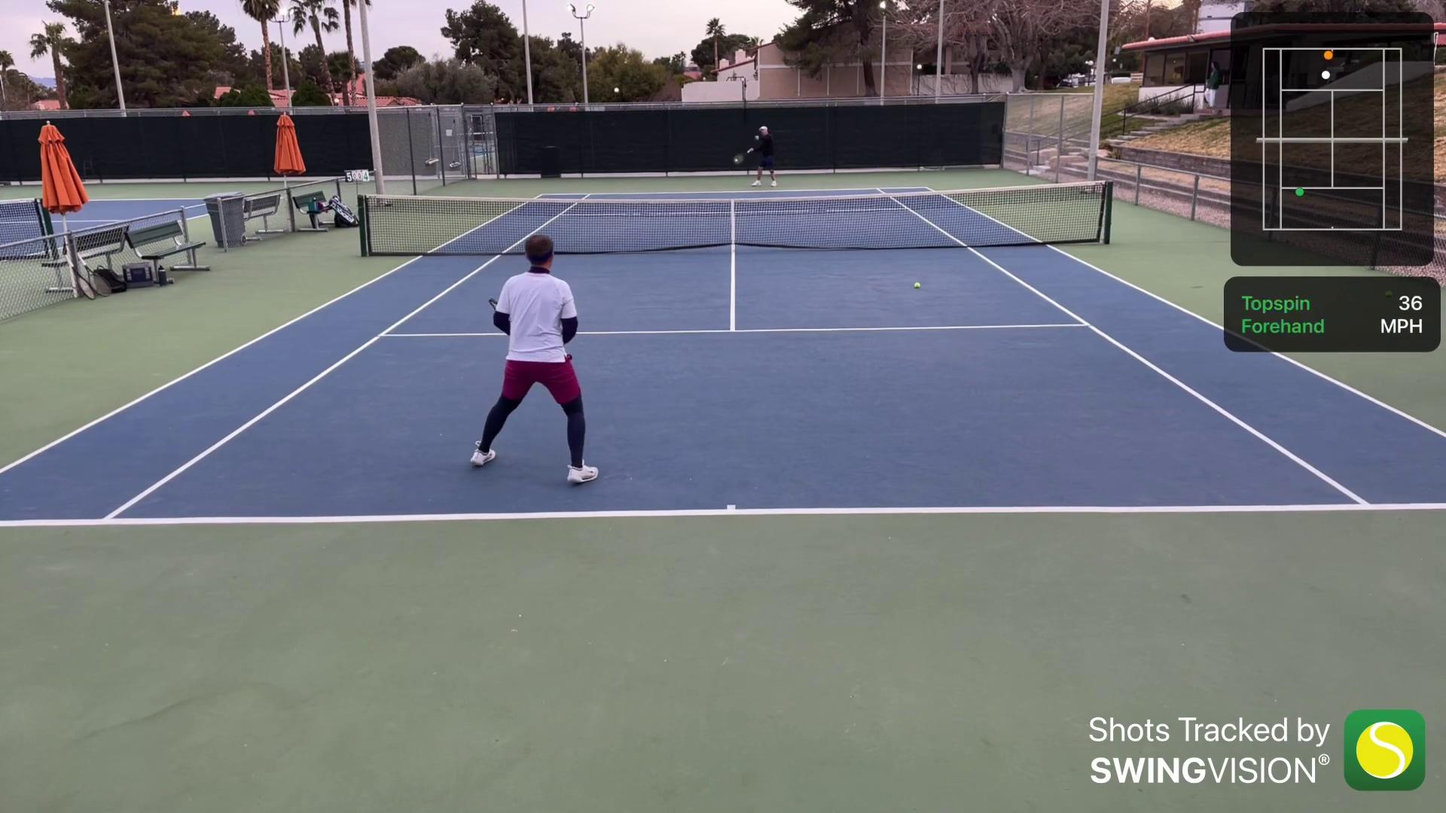ball: (914, 279, 921, 291), (734, 156, 740, 164)
